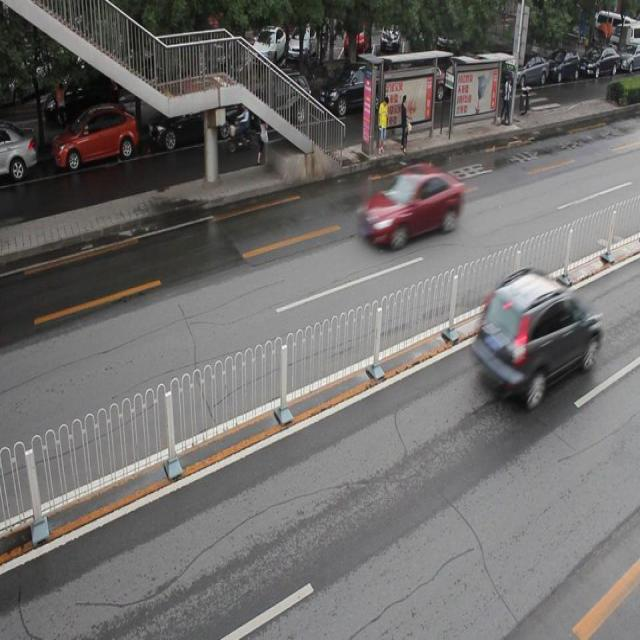car: (467, 270, 602, 408), (354, 169, 465, 249), (148, 94, 240, 149), (54, 110, 139, 167), (317, 65, 390, 120), (246, 74, 313, 133), (1, 124, 38, 181)
